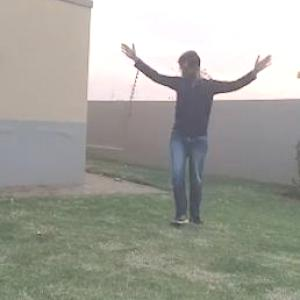takeoff: (118, 27, 280, 217)
